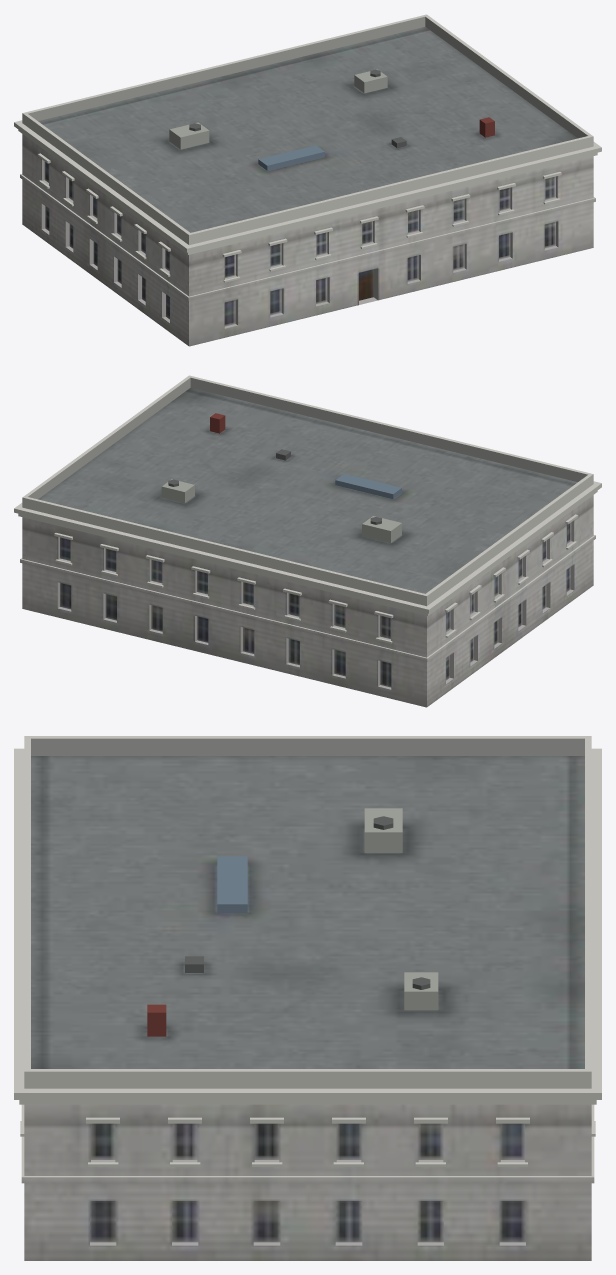
The model's file is dc_wh_wing.glb.
The picture shows the model from 3 angles, top to bottom: view 1: azimuth 30°, elevation 25°; view 2: azimuth 150°, elevation 25°; view 3: azimuth 270°, elevation 25°; orthographic projection. The views are drawn at different scales.
Parts seen in each view (by area): view 1: dc_wh_wing; view 2: dc_wh_wing; view 3: dc_wh_wing.
Part boxes in pixels (<box>): dc_wh_wing: <box>14,14,601,346</box>; dc_wh_wing: <box>14,375,601,707</box>; dc_wh_wing: <box>14,736,601,1260</box>.
Bounding box in the file's own units: 43.1 × 11.5 × 31.1.
1 material, 1 textured.
